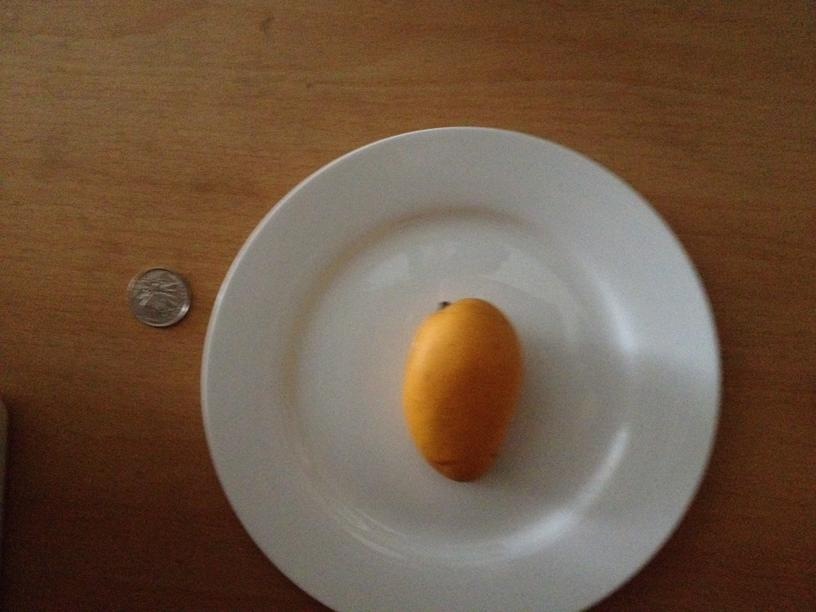coin: (126, 267, 192, 327)
mango: (405, 294, 516, 483)
